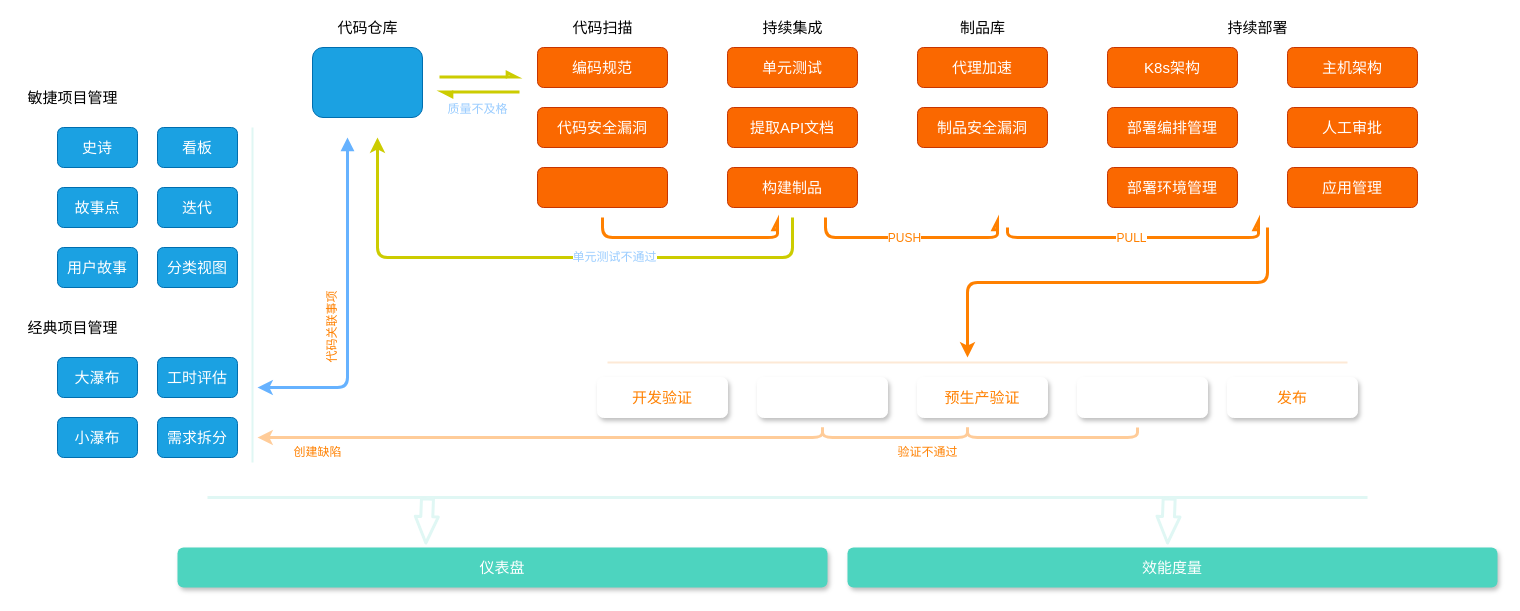
This 1520x611 diagram has some shape labels left out. The shapes that lost their labels are listed below. From the top down, each one's centre as x and y in pixels, then its label:
(x=367, y=82): Git
(x=602, y=187): 质量门禁
(x=823, y=398): SIT验证
(x=1143, y=398): 上线验证
